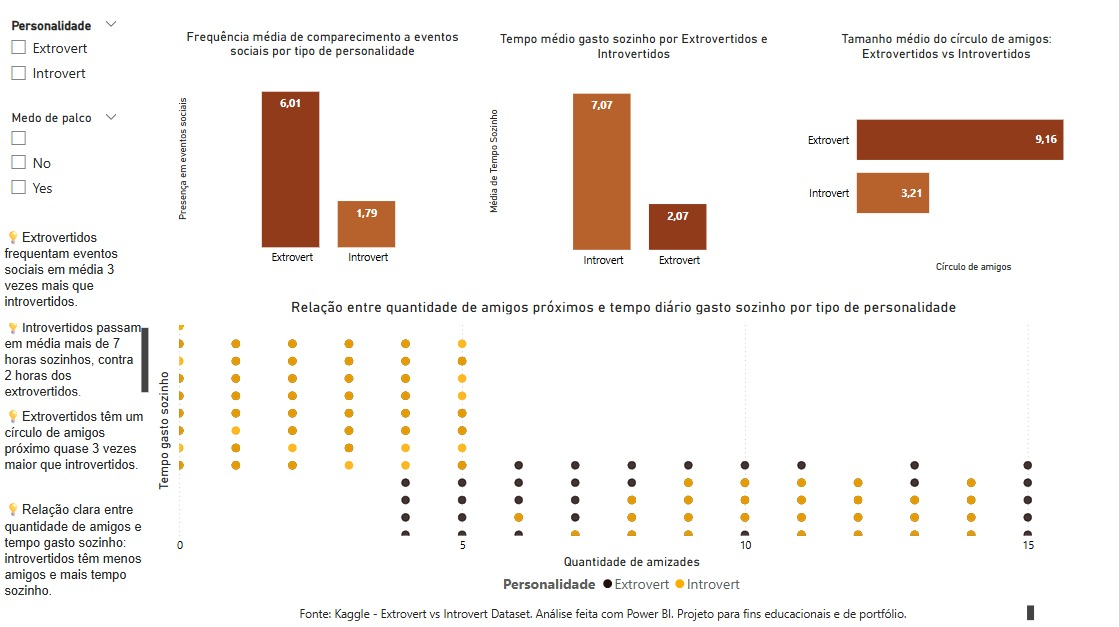

This screenshot's page, from the dashboard's own definition file:
{"tool":"powerbi","page":{"name":"Página 1","canvas":[1280,720],"ordinal":0},"visuals":[{"type":"columnChart","title":"Frequência média de comparecimento a eventos sociais por tipo de personalidade","fields":{"Category":["personality_dataset.Personality"],"Y":["Avg(personality_dataset.Social_event_attendance)"]},"box":[198.1,33.2,340,280],"z":0},{"type":"textbox","box":[0,255.7,174.3,104.3],"z":1000},{"type":"columnChart","title":"Tempo médio gasto sozinho por Extrovertidos e Introvertidos","fields":{"Category":["personality_dataset.Personality"],"Y":["Avg(personality_dataset.Time_spent_Alone)"]},"box":[555,35.7,340,280],"z":2000},{"type":"barChart","title":"Tamanho médio do círculo de amigos: Extrovertidos vs Introvertidos","fields":{"Category":["personality_dataset.Personality"],"Y":["Avg(personality_dataset.Friends_circle_size)"]},"box":[911.9,35.7,340,280],"z":3000},{"type":"scatterChart","title":"Relação entre quantidade de amigos próximos e tempo diário gasto sozinho por tipo de personalidade","fields":{"X":["personality_dataset.Friends_circle_size"],"Y":["personality_dataset.Time_spent_Alone"],"Series":["personality_dataset.Personality"]},"box":[174.3,340,1077.1,347.1],"z":4000},{"type":"slicer","fields":{"Values":["personality_dataset.Personality"]},"box":[0,15.7,145.7,105.7],"z":5000},{"type":"slicer","fields":{"Values":["personality_dataset.Stage_fear"]},"box":[0,121.4,145.7,120],"z":6000},{"type":"textbox","box":[0,364.3,174.3,92.9],"z":7000},{"type":"textbox","box":[0,460,174.3,102.9],"z":8000},{"type":"textbox","box":[0,567.1,174.3,142.9],"z":9000},{"type":"textbox","box":[198.6,687.1,988.6,27.1],"z":10000}]}

Visuals, with their boxes in screenshot pixels (x1, y1, x2, y2), scaled from the page's 1280x720 canvas onto the 1119x627 screenshot:
"Frequência média de comparecimento a eventos sociais por tipo de personalidade" columnChart: x1=173, y1=29, x2=470, y2=273
textbox: x1=0, y1=223, x2=152, y2=314
"Tempo médio gasto sozinho por Extrovertidos e Introvertidos" columnChart: x1=485, y1=31, x2=782, y2=275
"Tamanho médio do círculo de amigos: Extrovertidos vs Introvertidos" barChart: x1=797, y1=31, x2=1094, y2=275
"Relação entre quantidade de amigos próximos e tempo diário gasto sozinho por tipo de personalidade" scatterChart: x1=152, y1=296, x2=1094, y2=598
slicer - personality_dataset.Personality: x1=0, y1=14, x2=127, y2=106
slicer - personality_dataset.Stage_fear: x1=0, y1=106, x2=127, y2=210
textbox: x1=0, y1=317, x2=152, y2=398
textbox: x1=0, y1=401, x2=152, y2=490
textbox: x1=0, y1=494, x2=152, y2=618
textbox: x1=174, y1=598, x2=1038, y2=622
